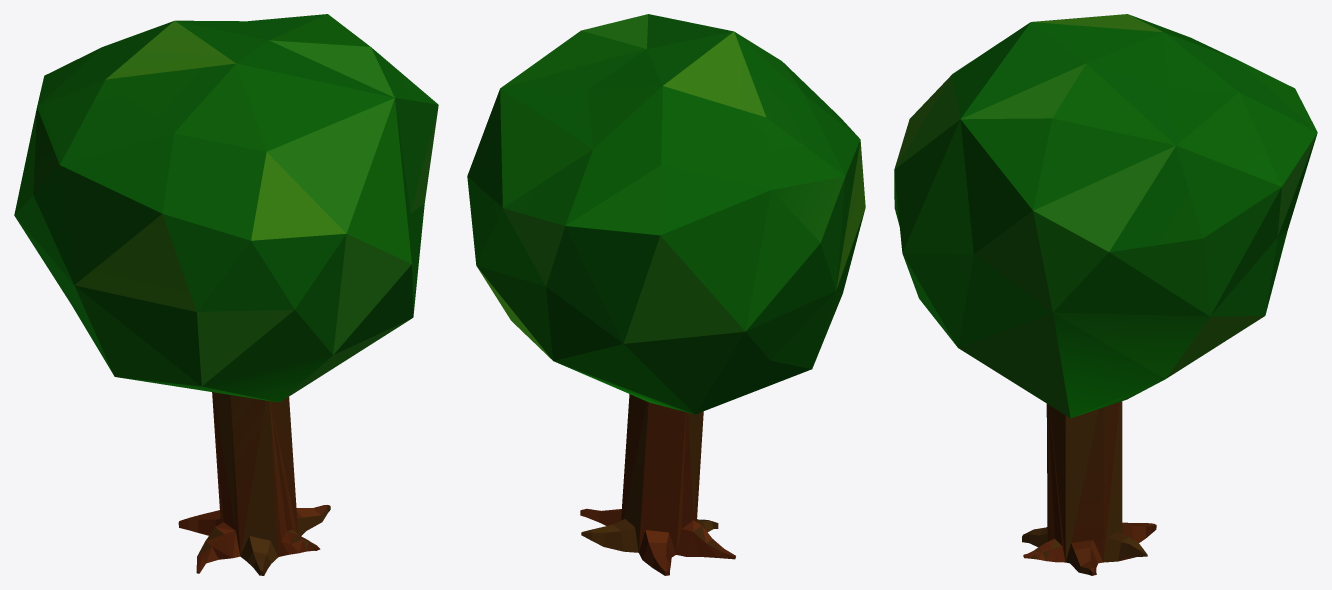
The model's file is tree.glb.
3 renders of one model, left to right at view 1: azimuth 30°, elevation 25°; view 2: azimuth 150°, elevation 25°; view 3: azimuth 270°, elevation 25°, orthographic.
Visible parts, largest first — view 1: Tree; view 2: Tree; view 3: Tree.
Part boxes in pixels (x1,y1,x2,y2): Tree: [14, 14, 438, 575]; Tree: [467, 14, 865, 575]; Tree: [894, 14, 1317, 575].
Bounding box in the file's own units: 3.88 × 5.38 × 4.02.
1 material, 1 textured.
